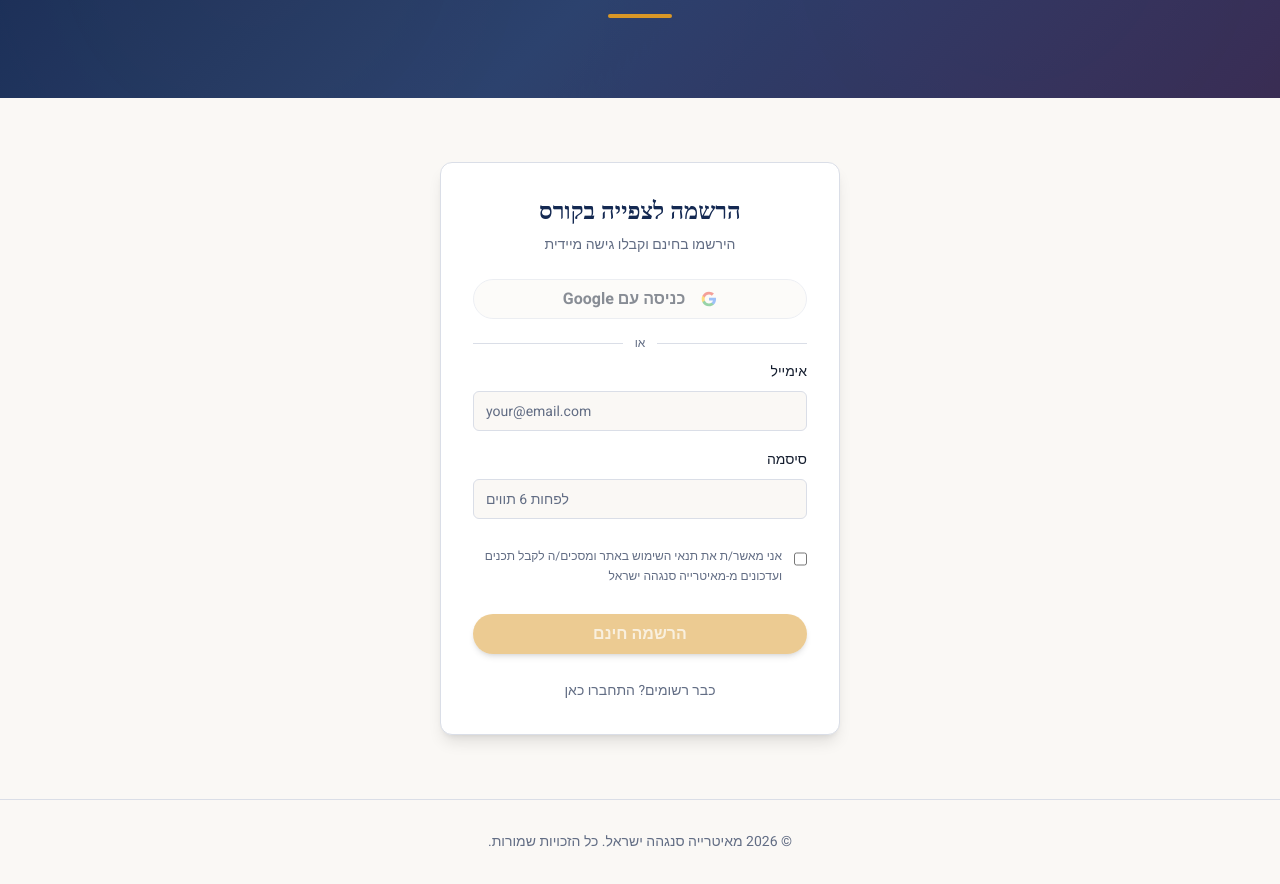
Test case: Register flow › switches to login mode
(page scrolled)
Click the button "כבר רשומים? התחברו כאן": (640, 691) [564, 681, 716, 701]
(page scrolled)
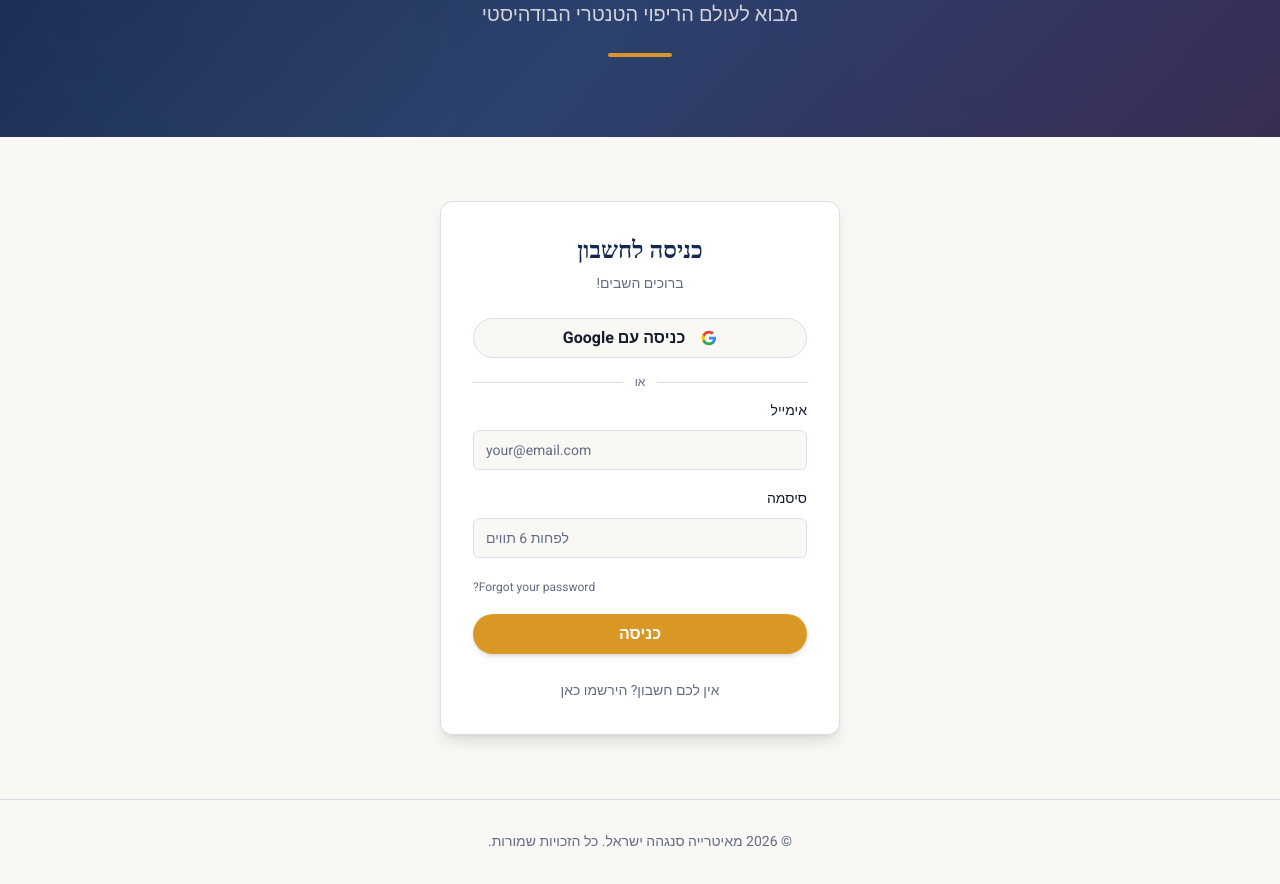
Result: the heading "כניסה לחשבון" is shown at [577, 237, 703, 263]
Result: the button "כניסה" is shown at [473, 614, 807, 654]
Result: the checkbox is gone
